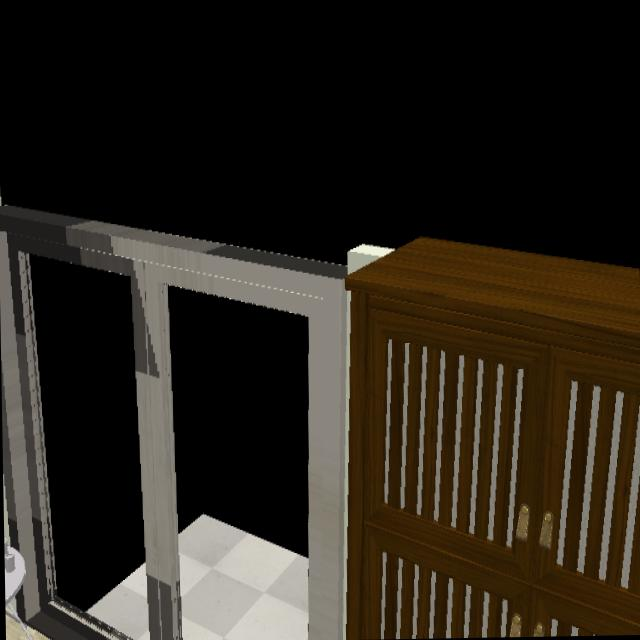wardrobe: (345, 238, 640, 640)
